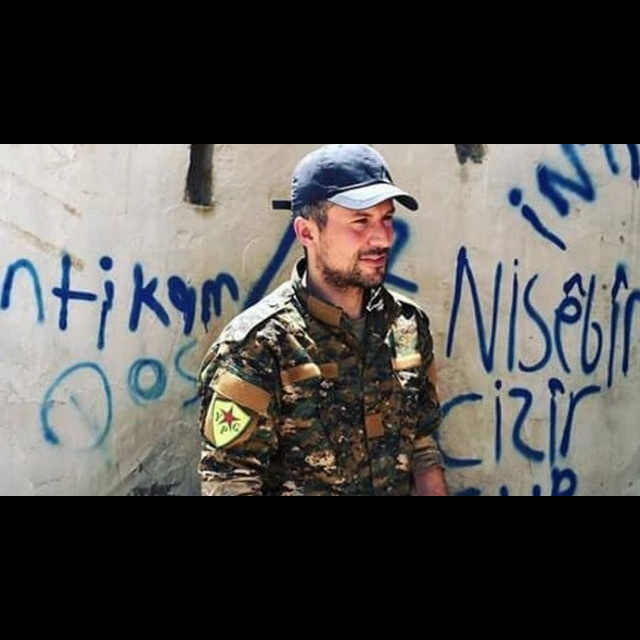YPG: (208, 392, 251, 449)
